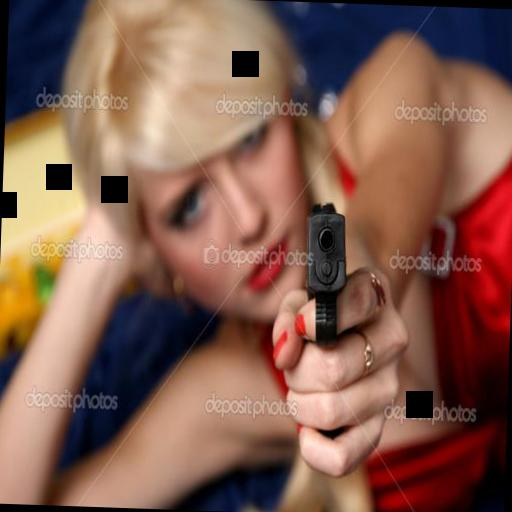Handgun: (294, 194, 355, 456)
